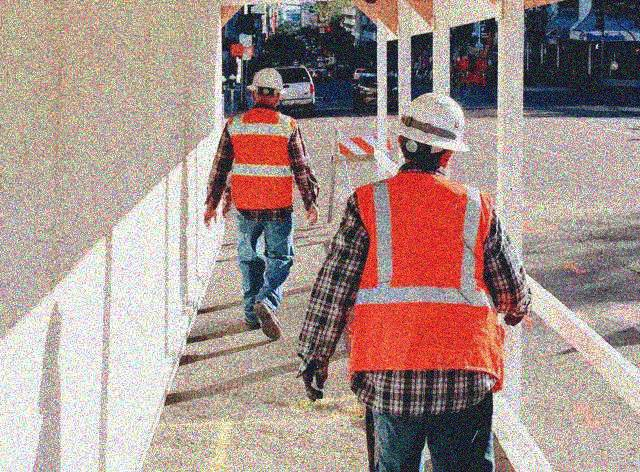helmet: (386, 92, 469, 168), (245, 63, 288, 111)
